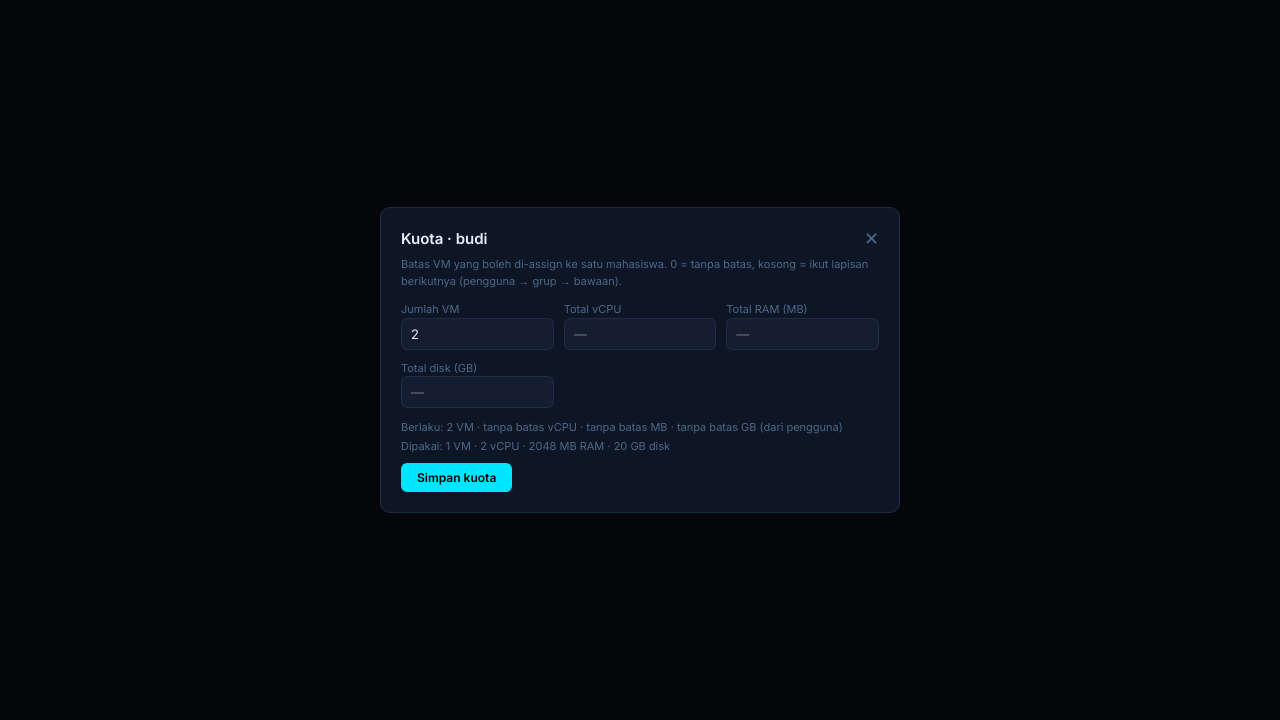
Scenario: Kuota › kuota pengguna: memuat penimpaan, menyimpan nilai, dan menampilkan batas yang berlaku
Expected: the number field labelled "Jumlah VM" holds "2", [401,318,554,350]
Expected: the text "Dipakai: 1 VM · 2 vCPU · 2048 MB RAM · 20 GB disk" is shown, [401,439,670,453]
In the number field labelled "Total vCPU": (640, 334) [564,318,716,350], type "4"
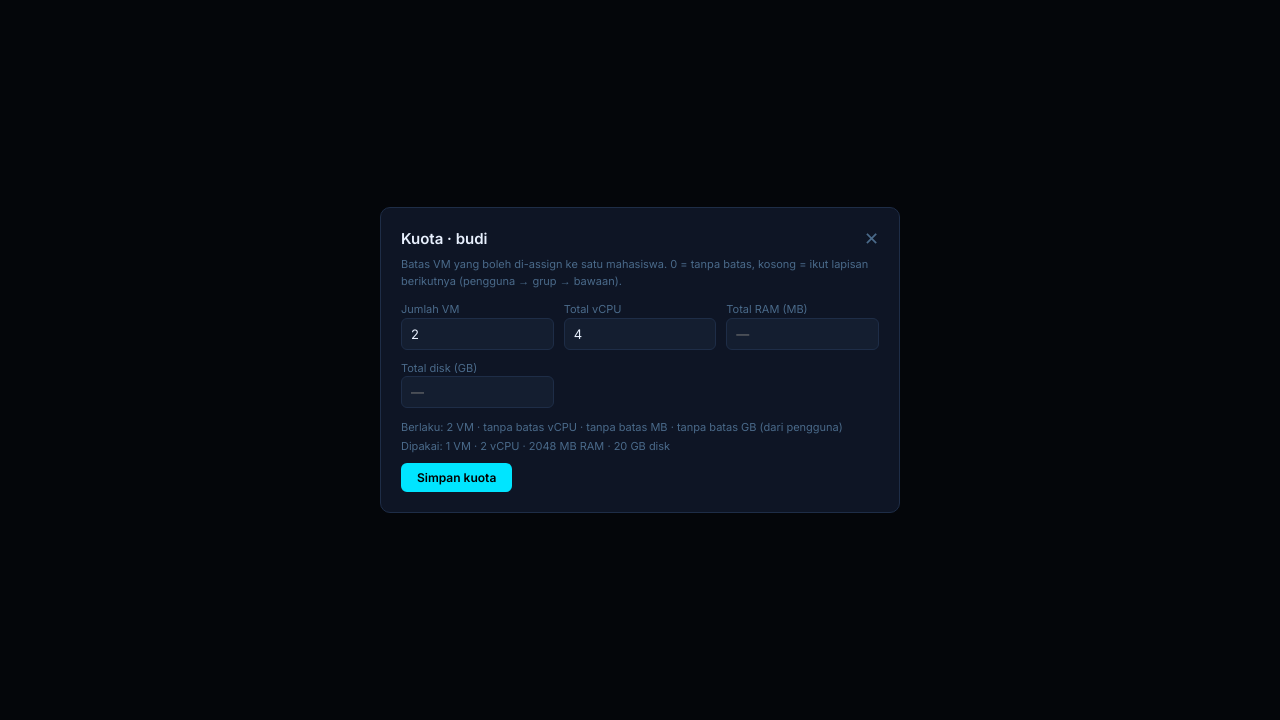
Click the button "Simpan kuota": (457, 478) [401,463,512,492]
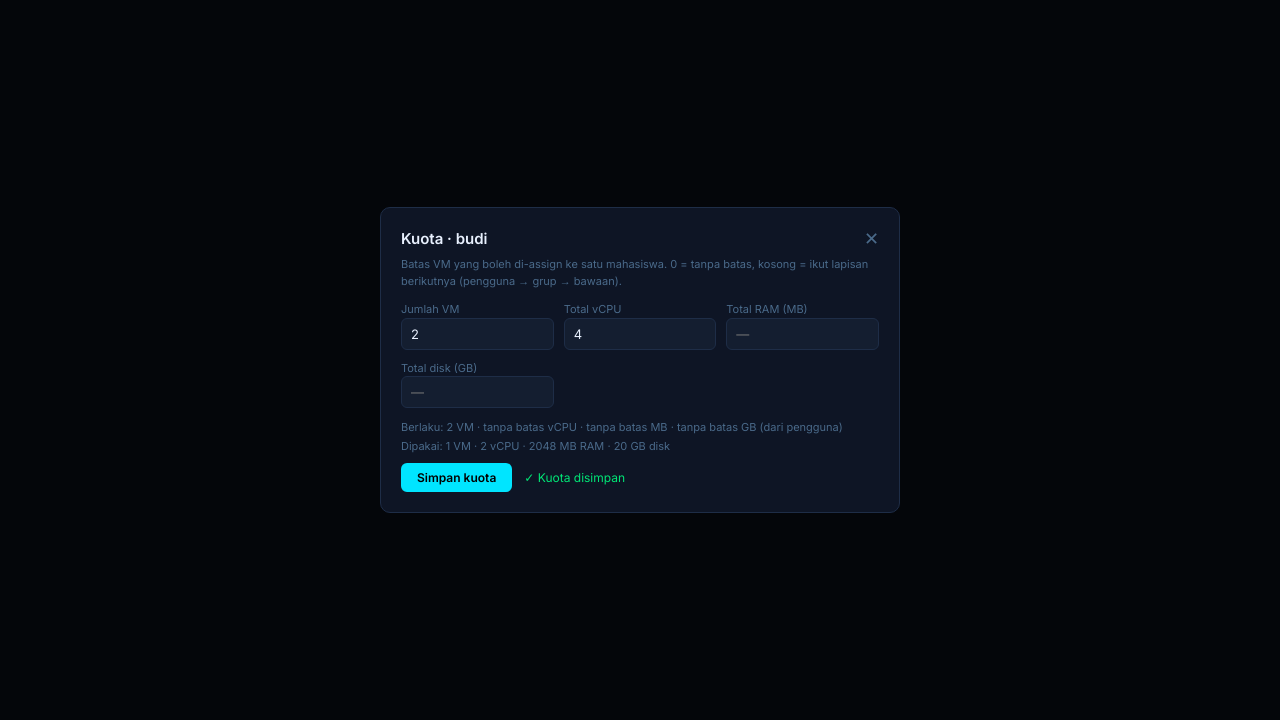
Expected: the text "✓ Kuota disimpan" is shown, [524,469,625,487]
